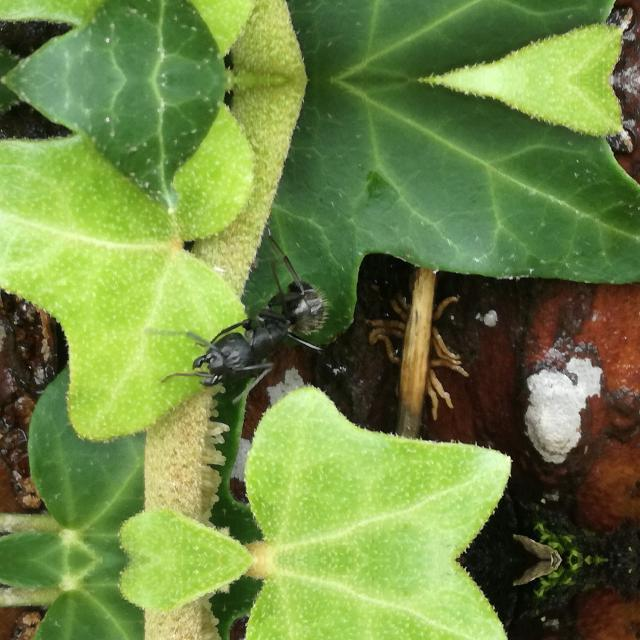Camponotus: (168, 248, 354, 404)
